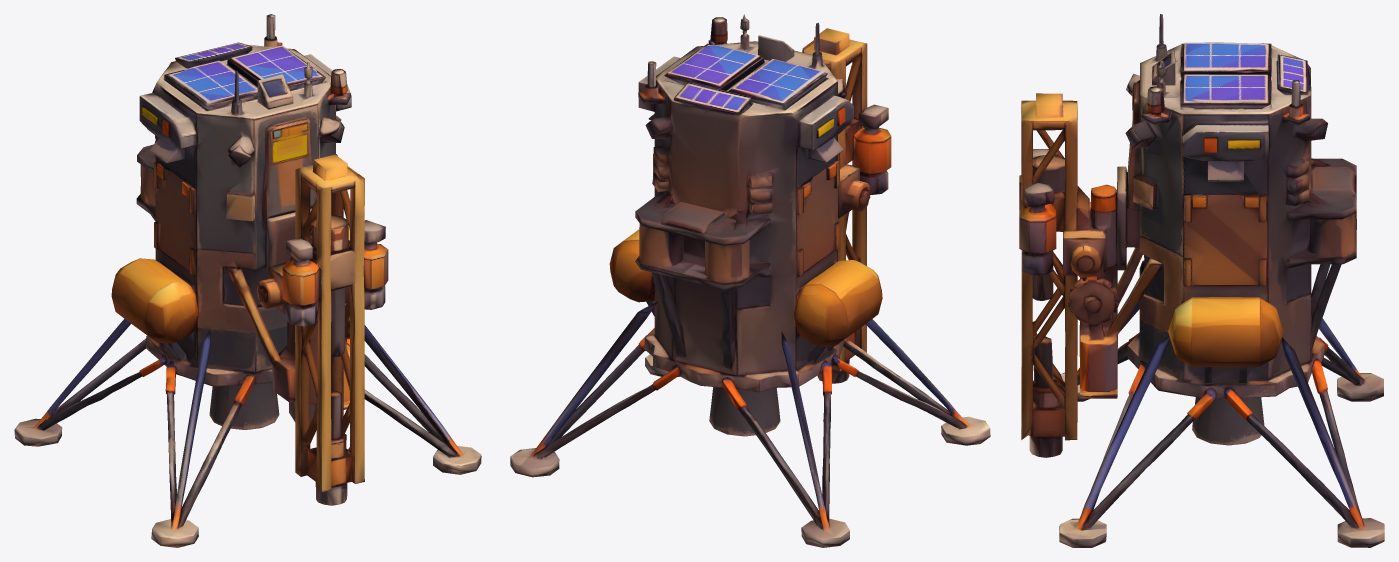
File: taladro.glb
3 renders of one model, left to right at view 1: azimuth 30°, elevation 25°; view 2: azimuth 150°, elevation 25°; view 3: azimuth 270°, elevation 25°, orthographic. The views are drawn at different scales.
Visible parts, largest first — view 1: tripo_node_259ee13d-e09d-43d3-96a8-1267768972a3; view 2: tripo_node_259ee13d-e09d-43d3-96a8-1267768972a3; view 3: tripo_node_259ee13d-e09d-43d3-96a8-1267768972a3.
Boxes of the visible parts, bbox=[...] form: tripo_node_259ee13d-e09d-43d3-96a8-1267768972a3: bbox=[14, 14, 481, 547]; tripo_node_259ee13d-e09d-43d3-96a8-1267768972a3: bbox=[510, 14, 990, 547]; tripo_node_259ee13d-e09d-43d3-96a8-1267768972a3: bbox=[1019, 14, 1384, 547].
Bounding box in the file's own units: 0.8124 × 0.9804 × 0.7543.
1 material, 1 textured.
